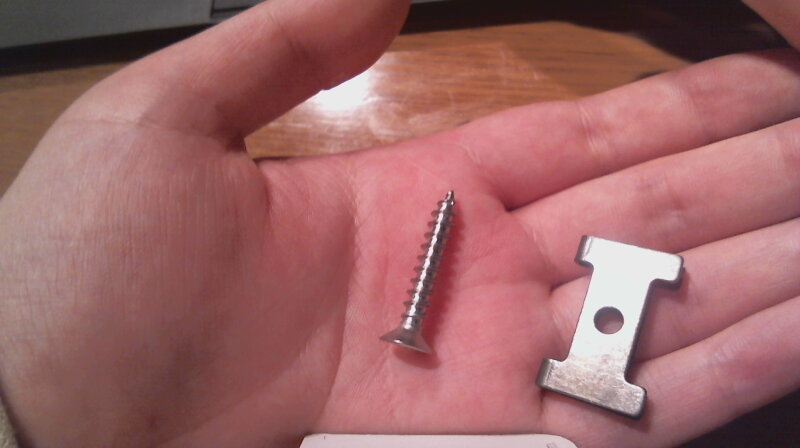O002: (534, 232, 687, 420)
S001: (378, 191, 461, 363)
